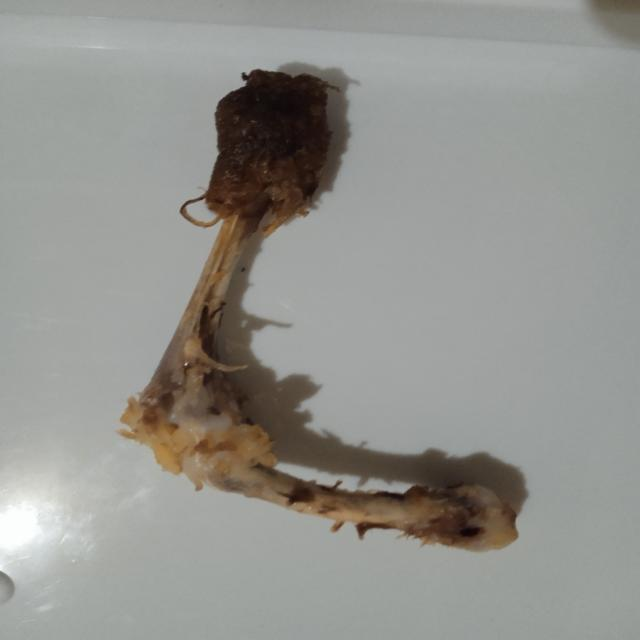bone: (112, 64, 524, 560)
